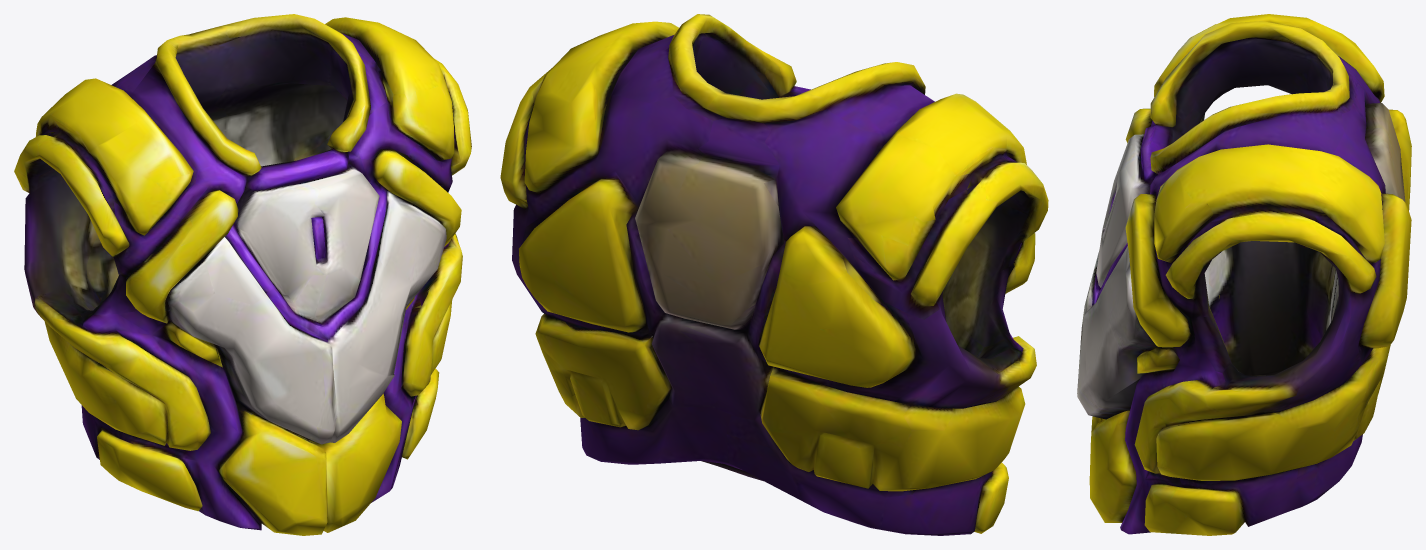
The model's file is GE13_insulator_suit.glb.
The picture shows the model from 3 angles, left to right: view 1: azimuth 30°, elevation 25°; view 2: azimuth 150°, elevation 25°; view 3: azimuth 270°, elevation 25°; orthographic projection. The views are drawn at different scales.
Parts seen in each view (by area): view 1: tripo_node_092563dd-3618-4516-9458-26ec1f6eebd6; view 2: tripo_node_092563dd-3618-4516-9458-26ec1f6eebd6; view 3: tripo_node_092563dd-3618-4516-9458-26ec1f6eebd6.
Boxes of the visible parts, bbox=[...] form: tripo_node_092563dd-3618-4516-9458-26ec1f6eebd6: bbox=[14, 14, 471, 535]; tripo_node_092563dd-3618-4516-9458-26ec1f6eebd6: bbox=[500, 14, 1048, 535]; tripo_node_092563dd-3618-4516-9458-26ec1f6eebd6: bbox=[1077, 14, 1411, 535].
Bounding box in the file's own units: 0.9617 × 1 × 0.6701.
Materials: 1 (1 with a texture image).
